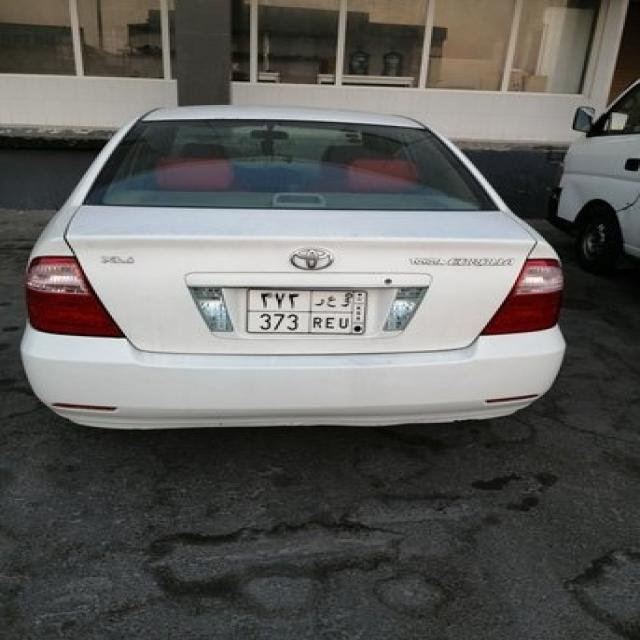license_plate: (244, 284, 370, 335)
